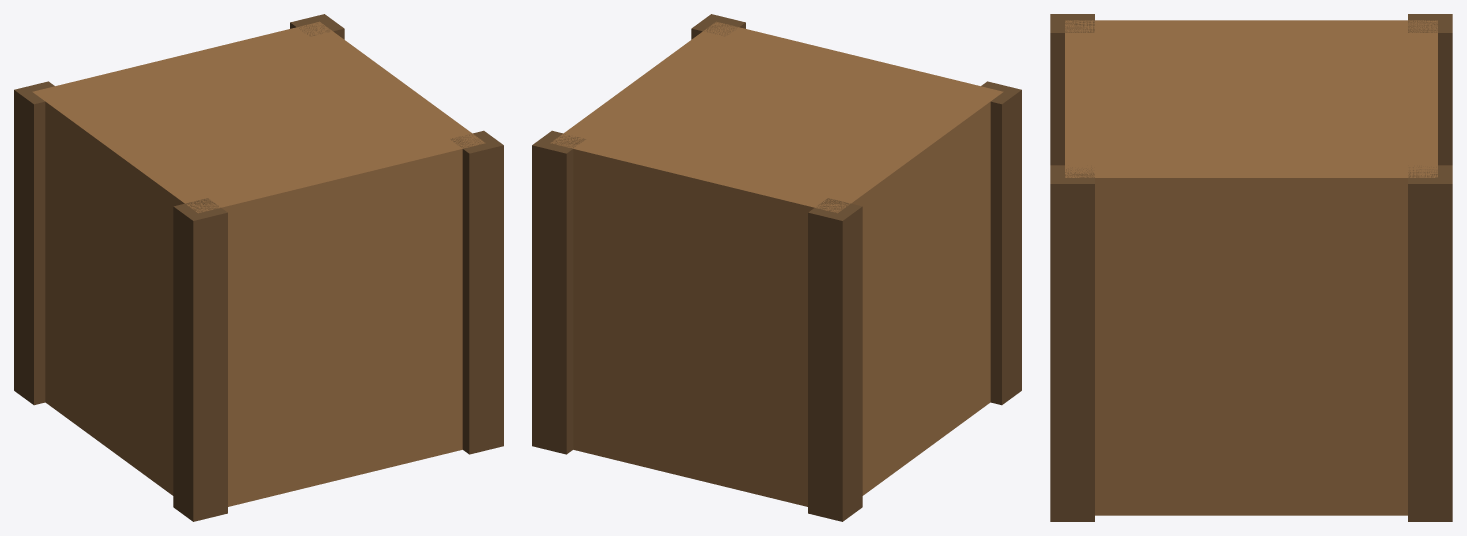
File: Crate.fbx
3 renders of one model, left to right at view 1: azimuth 30°, elevation 25°; view 2: azimuth 150°, elevation 25°; view 3: azimuth 270°, elevation 25°, orthographic. The views are drawn at different scales.
Visible parts, largest first — view 1: Kit_Crate; view 2: Kit_Crate; view 3: Kit_Crate.
Part boxes in pixels (x1=…): Kit_Crate: x1=14, y1=14, x2=503, y2=521; Kit_Crate: x1=532, y1=14, x2=1021, y2=521; Kit_Crate: x1=1050, y1=14, x2=1452, y2=521.
Bounding box in the file's own units: 0.54 × 0.5 × 0.54.
